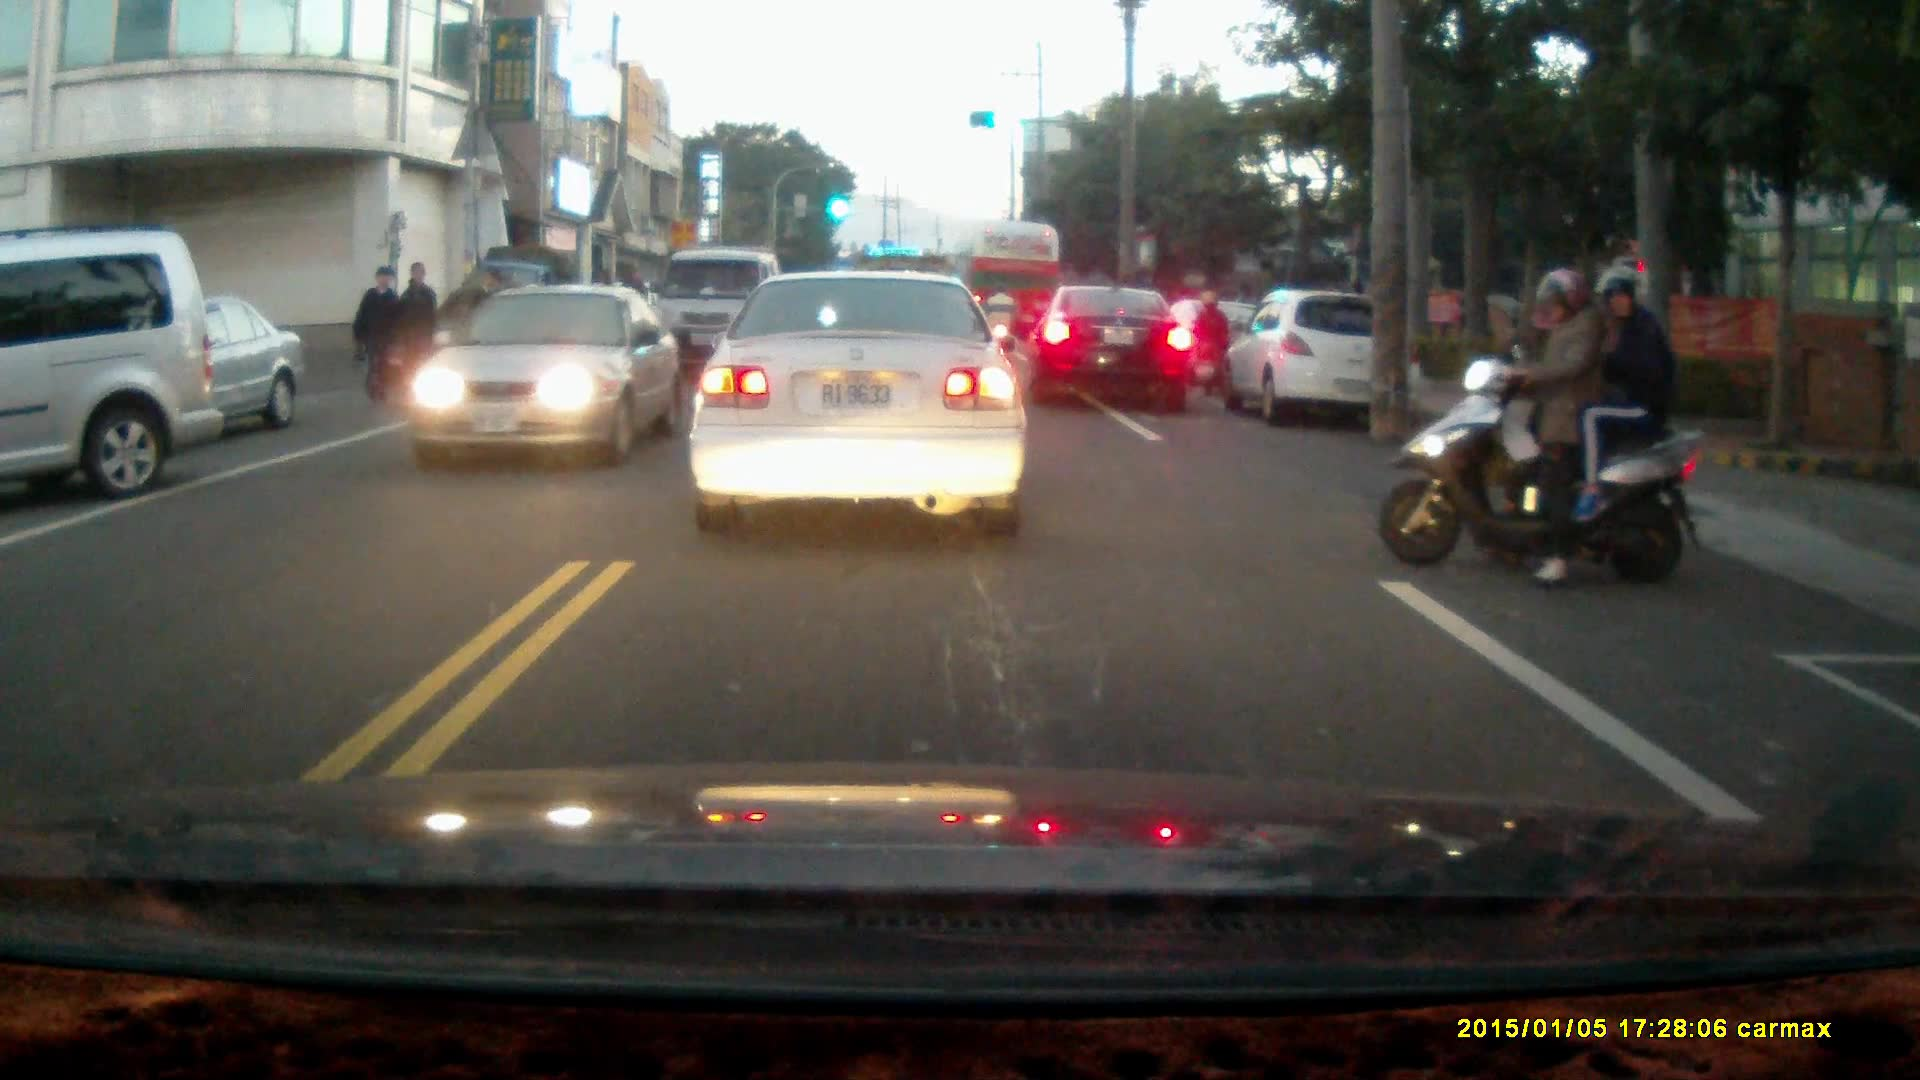pedestrian: (348, 261, 404, 414), (395, 260, 438, 395)
rider: (1379, 264, 1710, 590), (1186, 290, 1233, 399), (980, 284, 1019, 361)
vehicle: (689, 265, 1030, 538), (1, 222, 221, 504), (408, 285, 685, 472), (30, 290, 307, 438), (1229, 288, 1426, 432), (1027, 289, 1200, 415), (657, 247, 784, 381), (962, 220, 1066, 356)
